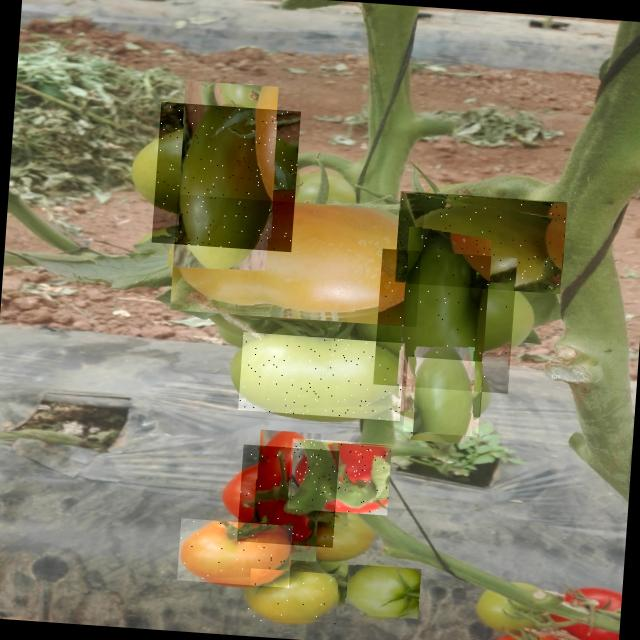Ripe Tomato: (236, 444, 339, 547), (286, 437, 392, 515)
Unripe Tomato: (170, 194, 423, 326), (151, 101, 301, 252), (373, 248, 517, 393), (394, 190, 567, 294), (238, 332, 404, 421), (176, 518, 292, 588), (402, 356, 482, 436), (247, 568, 338, 626), (344, 564, 421, 618)
